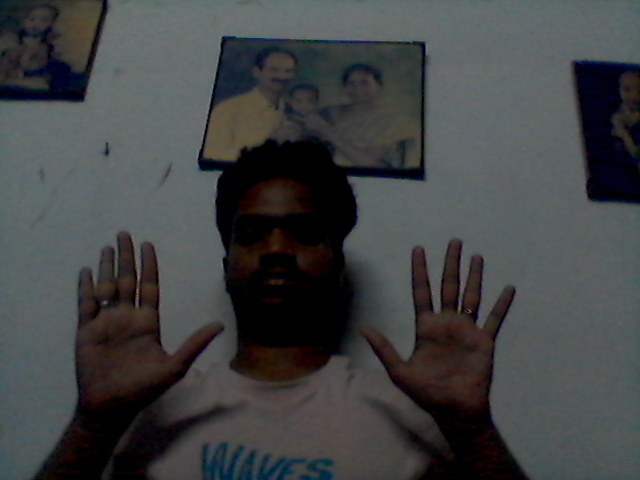Hi: (32, 230, 230, 428), (360, 229, 524, 421)
